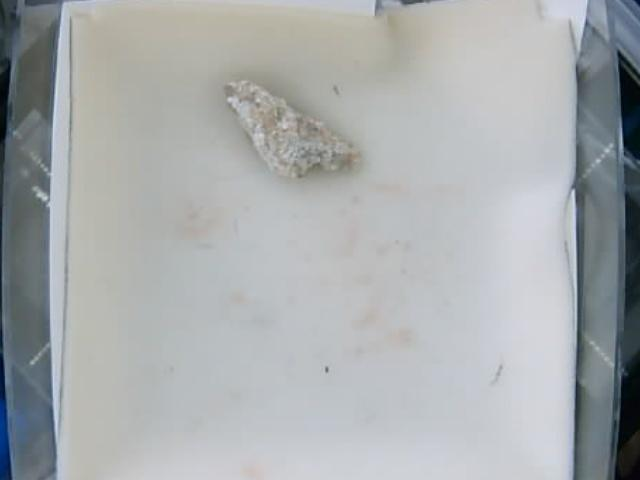Brisk: (219, 73, 361, 177)
